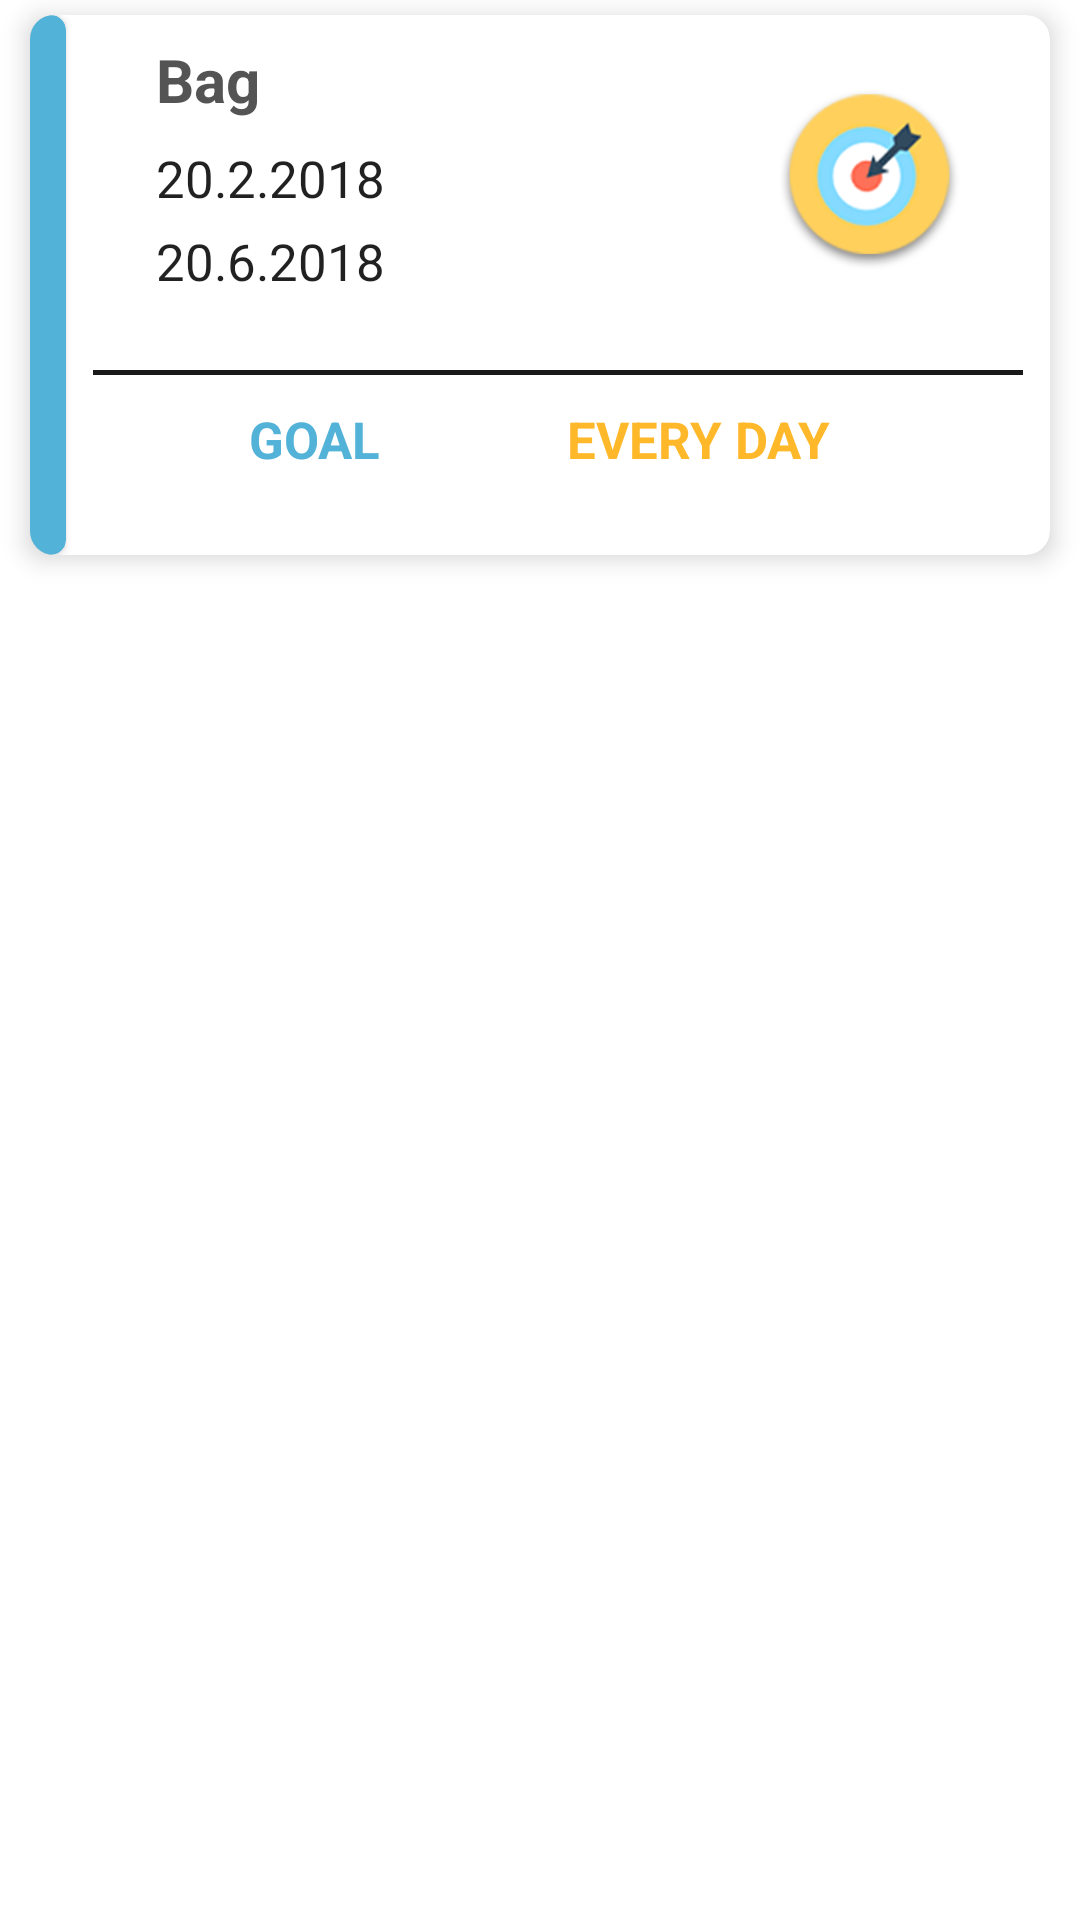

Screen size 1080w x 1920h. Icon name, then its center in pixels as [x,y]:
goalicon: [869,179]
